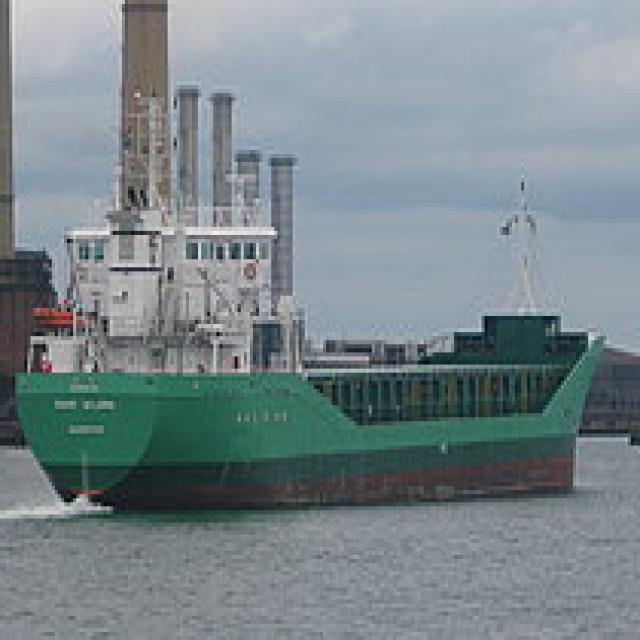Cargo: (15, 81, 613, 506)
